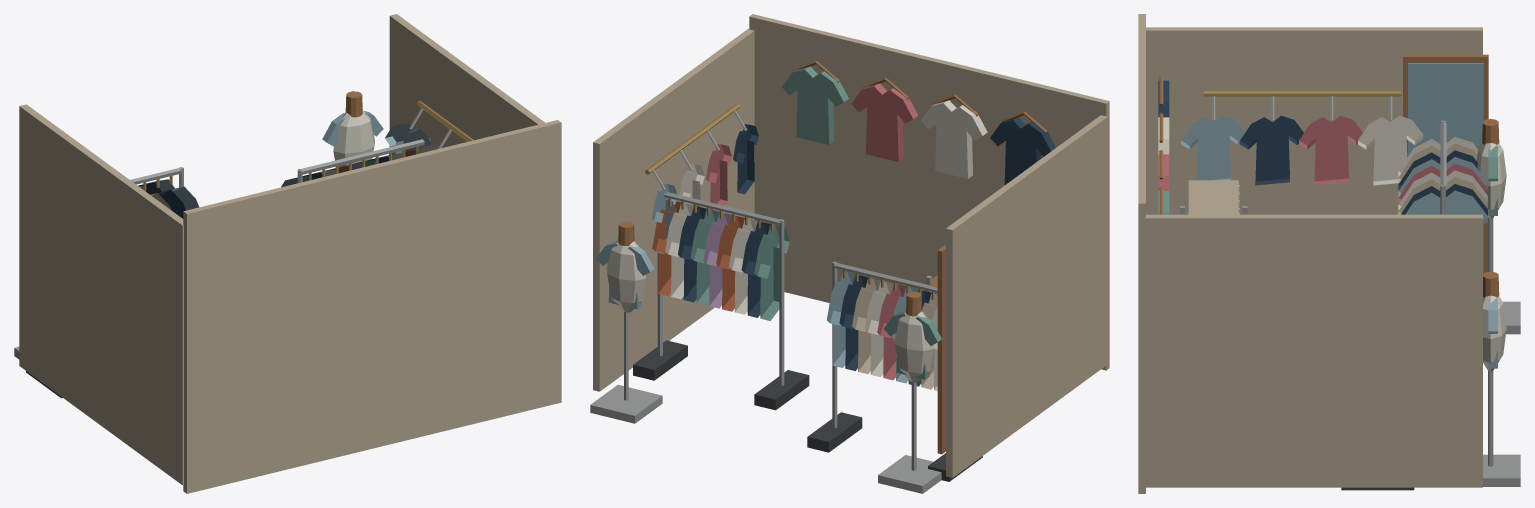
Rendered from apparel.glb.
3 views of the same model, side by side, from view 1: azimuth 30°, elevation 25°; view 2: azimuth 150°, elevation 25°; view 3: azimuth 270°, elevation 25° (orthographic). The views are drawn at different scales.
Visible parts, largest first — view 1: apparel; view 2: apparel; view 3: apparel.
Boxes of the visible parts, x1,y1,x2,y2 form: apparel: (14, 14, 561, 493); apparel: (590, 14, 1109, 493); apparel: (1138, 14, 1520, 493).
Size of the model in its own units: 3.53 by 2.5 by 2.98.
